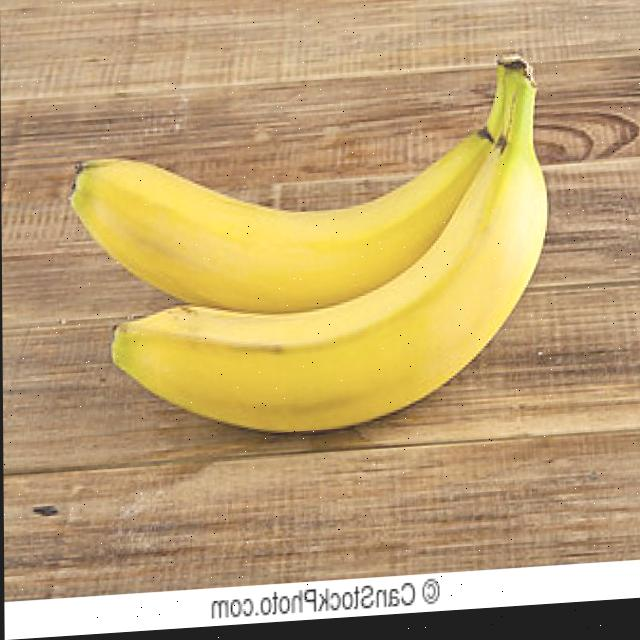banana: (69, 45, 555, 455)
